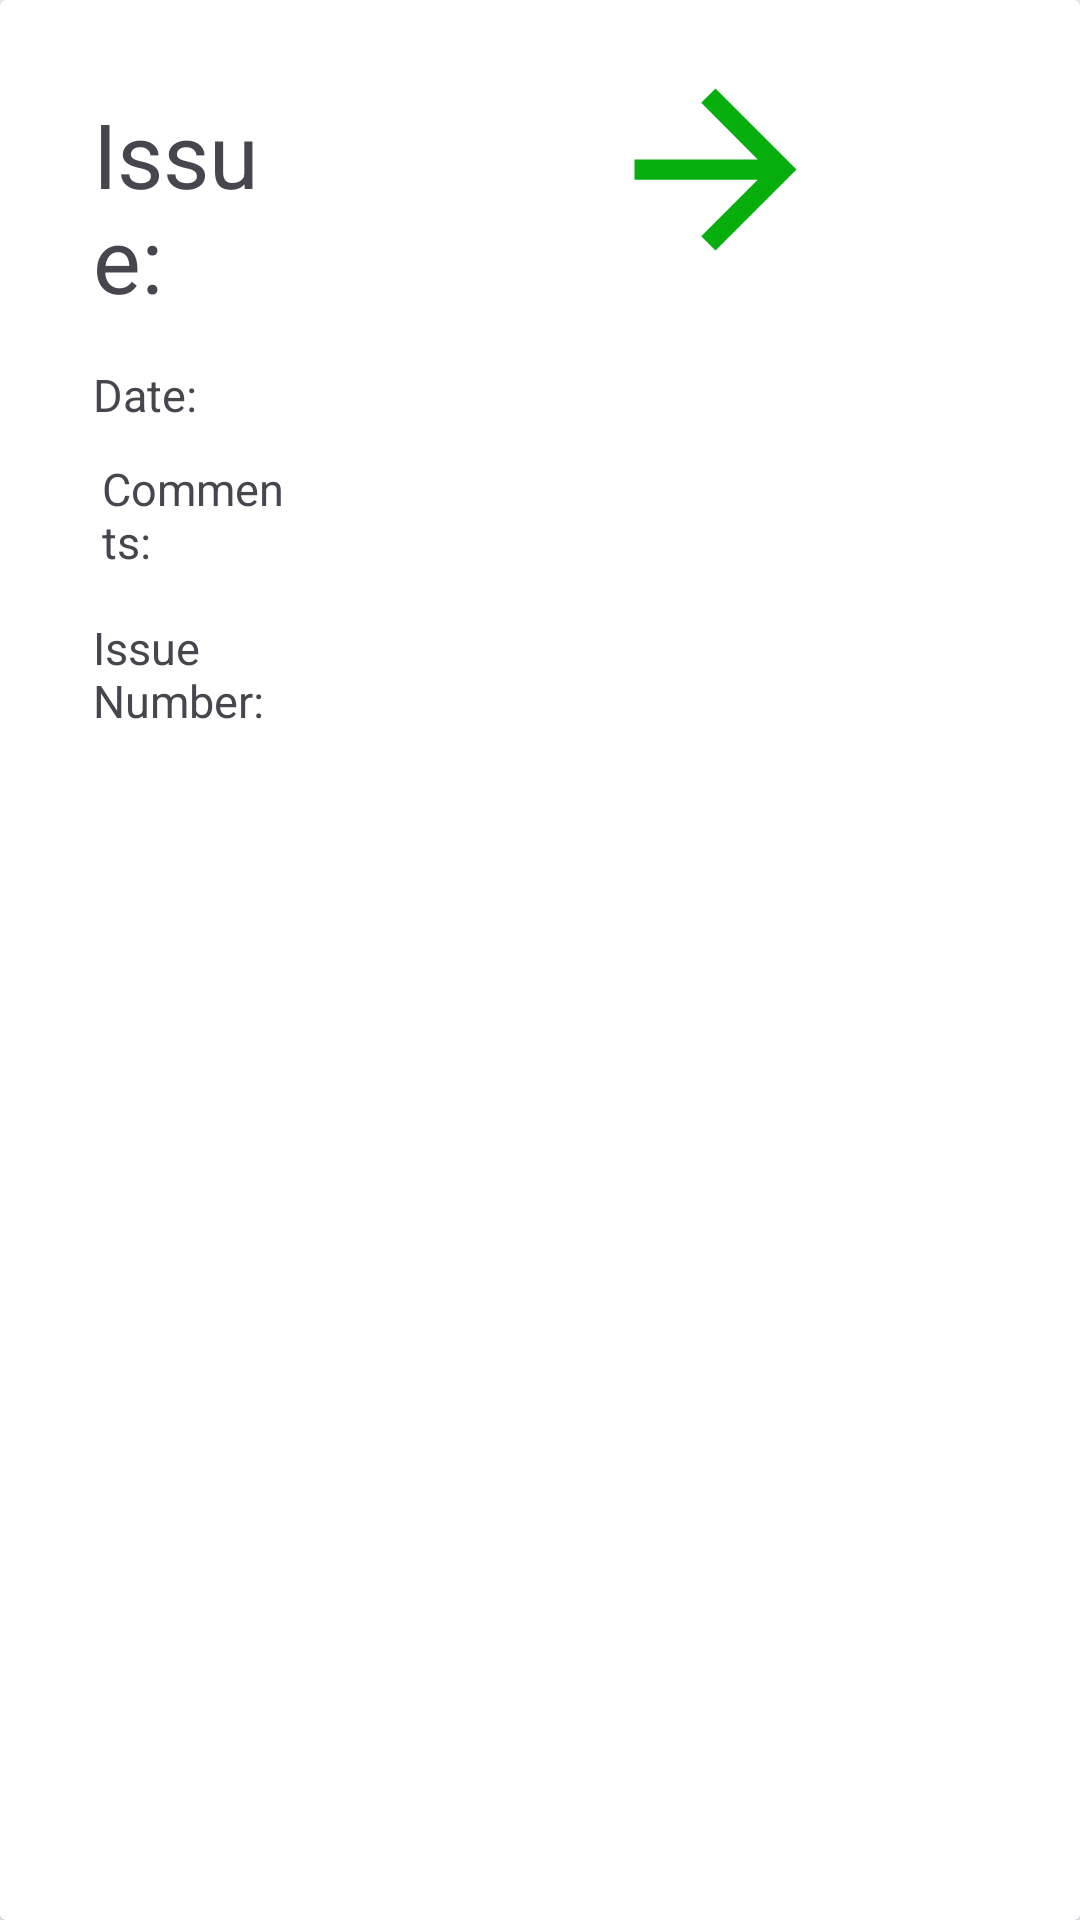

Icon click points for this 1080w x 1920h phone screenshot, format point (x, y):
arrow forward: point (715, 169)
